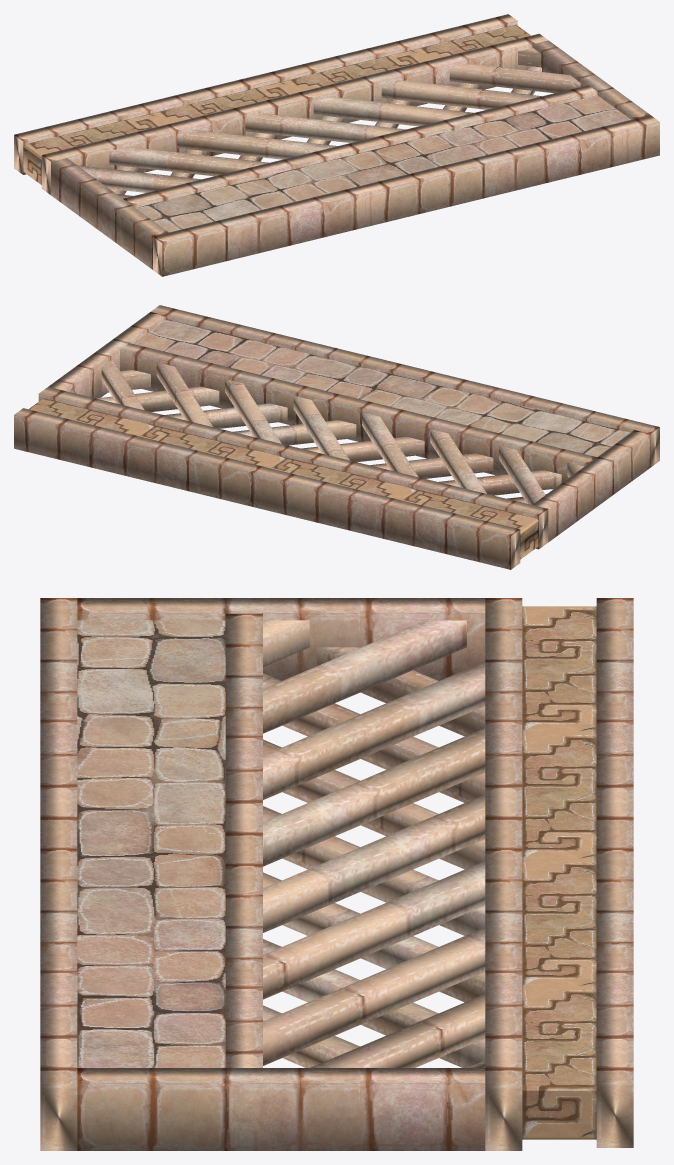
Rendered from RiseParts000.obj.
3 renders of one model, top to bottom at view 1: azimuth 30°, elevation 25°; view 2: azimuth 150°, elevation 25°; view 3: azimuth 270°, elevation 25°, orthographic. The views are drawn at different scales.
Visible parts, largest first — view 1: polySurface313__EdgeStoneBlock02, group749__BlockStoneParts02, Relief4__WallBrickBase04, Relief3__ReliefStonePattern01, polySurface313__EdgeStoneBlock03; view 2: polySurface313__EdgeStoneBlock02, group749__BlockStoneParts02, Relief4__WallBrickBase04, Relief3__ReliefStonePattern01, polySurface313__EdgeStoneBlock03; view 3: polySurface313__EdgeStoneBlock02, group749__BlockStoneParts02, Relief4__WallBrickBase04, Relief3__ReliefStonePattern01, polySurface313__EdgeStoneBlock03.
Boxes of the visible parts, x1,y1,x2,y2 form: polySurface313__EdgeStoneBlock02: (14, 14, 659, 276); group749__BlockStoneParts02: (77, 47, 580, 198); Relief4__WallBrickBase04: (136, 95, 630, 232); Relief3__ReliefStonePattern01: (23, 24, 530, 184); polySurface313__EdgeStoneBlock03: (14, 135, 162, 276); polySurface313__EdgeStoneBlock02: (14, 305, 659, 569); group749__BlockStoneParts02: (68, 359, 583, 504); Relief4__WallBrickBase04: (133, 319, 630, 456); Relief3__ReliefStonePattern01: (29, 398, 538, 559); polySurface313__EdgeStoneBlock03: (511, 427, 659, 569); polySurface313__EdgeStoneBlock02: (40, 598, 633, 1150); group749__BlockStoneParts02: (263, 620, 485, 1067); Relief4__WallBrickBase04: (77, 620, 225, 1067); Relief3__ReliefStonePattern01: (522, 606, 596, 1139); polySurface313__EdgeStoneBlock03: (40, 1080, 633, 1150).
Size of the model in its own units: 1550 by 100 by 800.
Materials: 6 (5 with a texture image).
